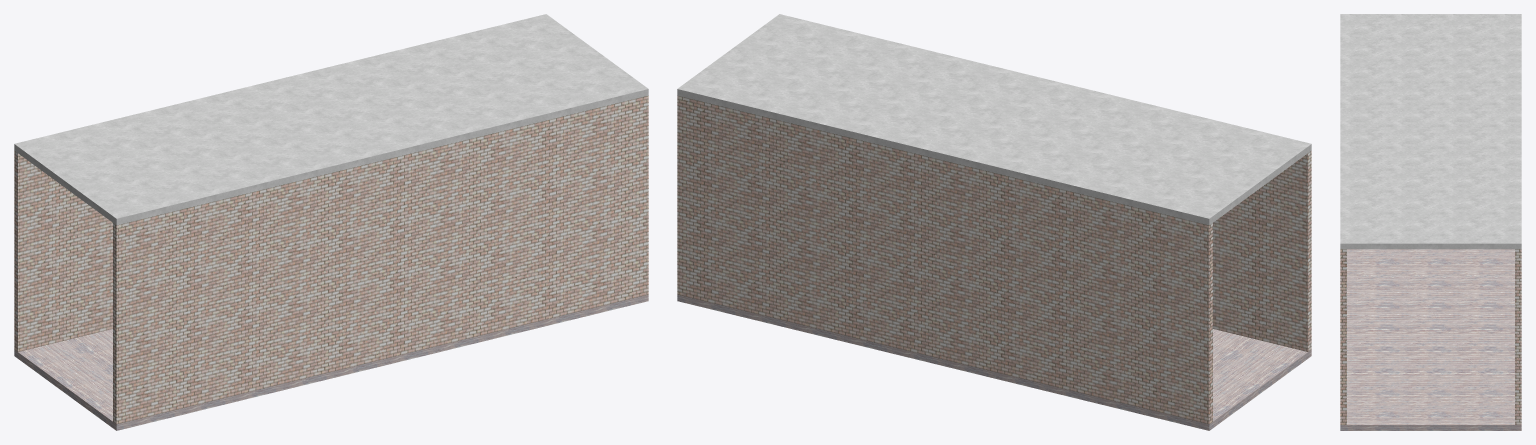
The model's file is OLD_LongerHallway.obj.
3 renders of one model, left to right at view 1: azimuth 30°, elevation 25°; view 2: azimuth 150°, elevation 25°; view 3: azimuth 270°, elevation 25°, orthographic. The views are drawn at different scales.
Visible parts, largest first — view 1: Union1, Ceiling1, Floor1; view 2: Union1, Ceiling1, Floor1; view 3: Ceiling1, Floor1, Union1.
Boxes of the visible parts, x1,y1,x2,y2 form: Union1: (14,95,648,424); Ceiling1: (14,14,648,225); Floor1: (14,294,648,430); Union1: (677,95,1311,424); Ceiling1: (677,14,1311,225); Floor1: (677,294,1311,430); Ceiling1: (1340,14,1521,249); Floor1: (1340,249,1521,430); Union1: (1340,249,1521,424).
Size of the model in its own units: 84 by 32 by 28.
